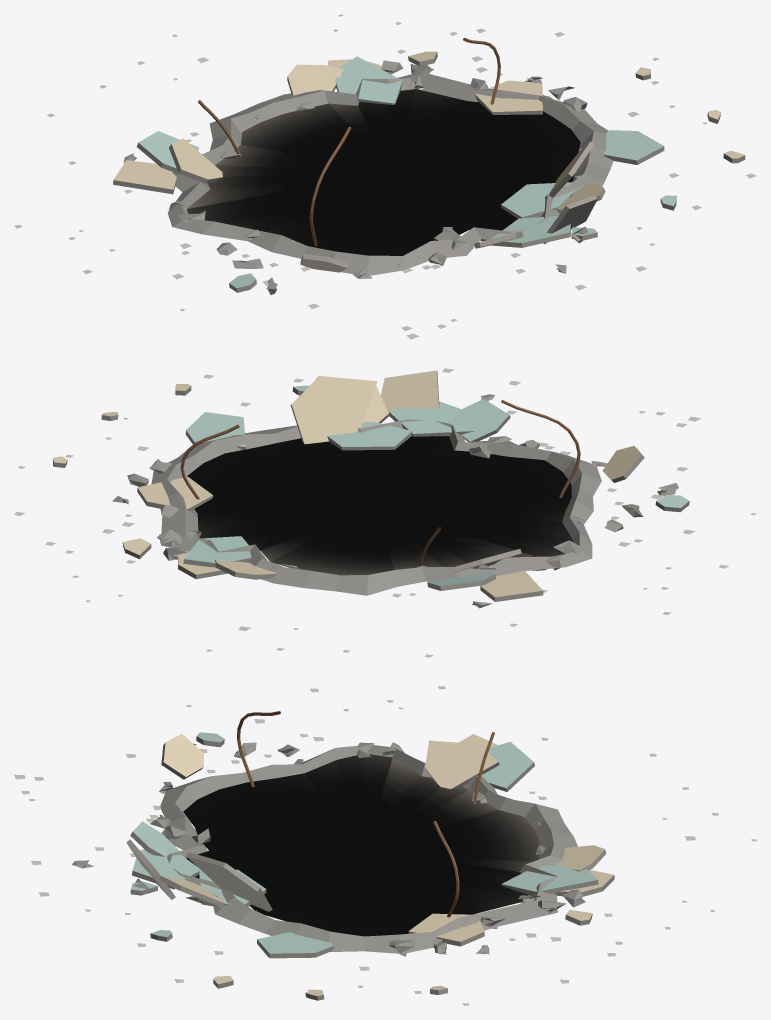
Rendered from floor_breach.glb.
3 views of the same model, one above another, from view 1: azimuth 30°, elevation 25°; view 2: azimuth 150°, elevation 25°; view 3: azimuth 270°, elevation 25° (orthographic). The views are drawn at different scales.
Parts seen in each view (by area): view 1: Breach_Floor; view 2: Breach_Floor; view 3: Breach_Floor.
Part boxes in pixels (box(x1,y1,x2,y2)): Breach_Floor: box(14, 14, 756, 339); Breach_Floor: box(14, 368, 756, 657); Breach_Floor: box(14, 686, 756, 1005).
Bounding box in the file's own units: 2.66 × 0.425 × 2.61.
